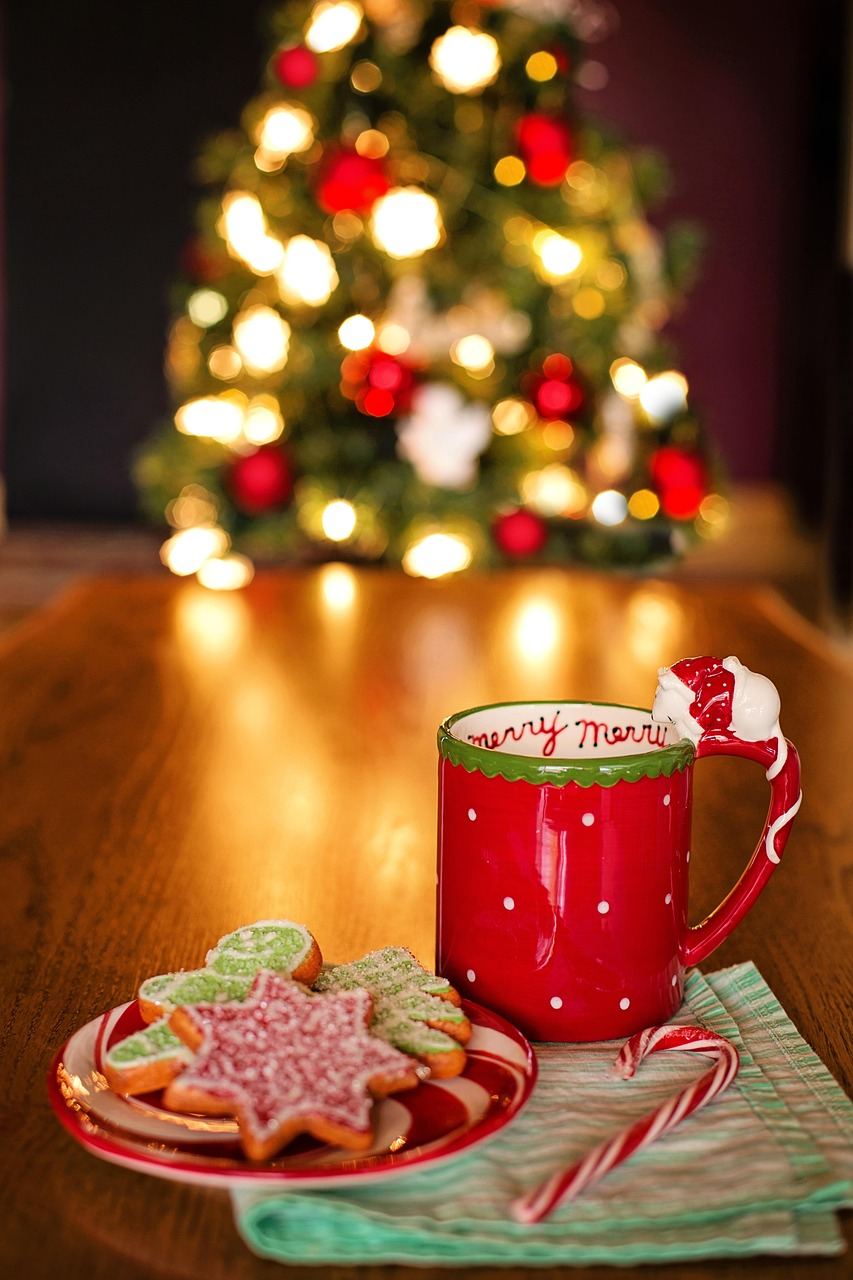mug: (363, 657, 811, 1067)
